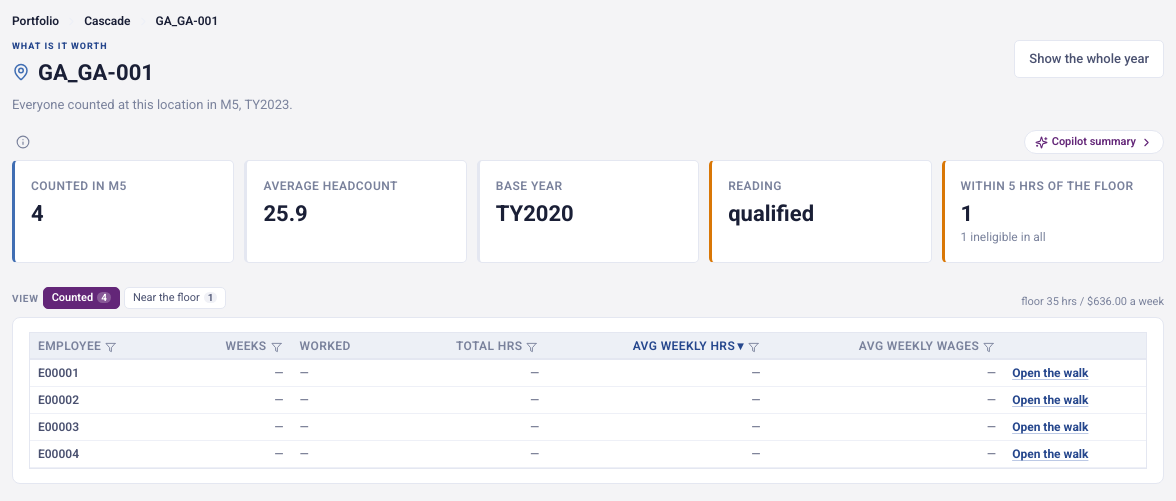
Test: the two cohorts are peers behind one tab strip › shows only one grid at a time, which is the point of tabbing them
Click the tab "Near the floor1". click: (175, 298)
box: [124,287,226,309]
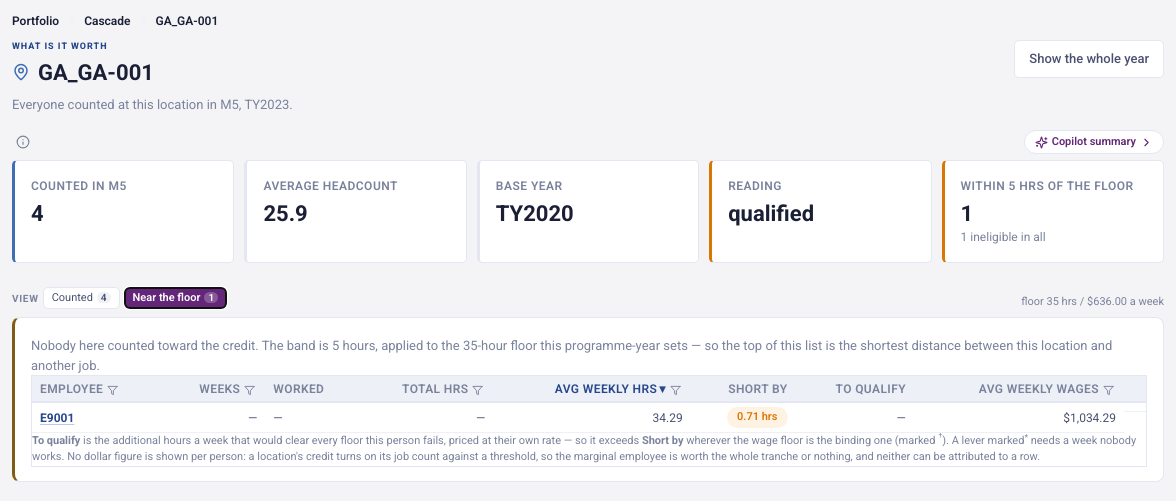
Now the element with id "unit-counted" is gone
Now the element with id "unit-near" is shown, box [12,317,1164,482]
